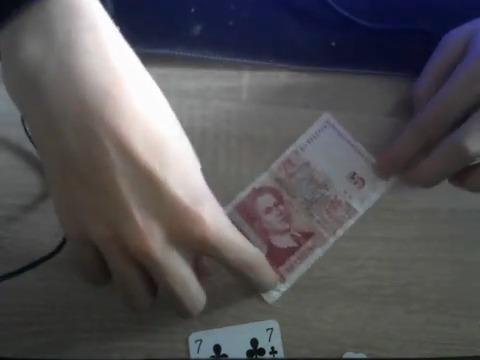5leva: (224, 114, 399, 304)
